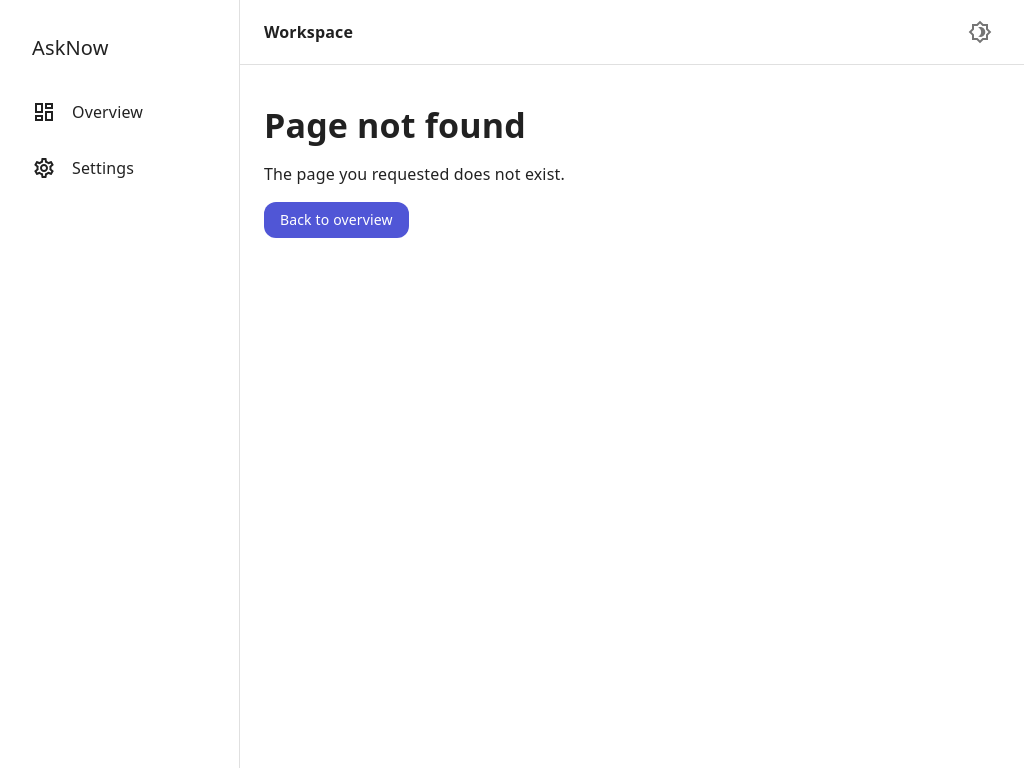
provides recovery navigation for unknown routes
Expected: the heading "Page not found" is shown, [264, 104, 526, 146]
Click the link "Back to overview" at (336, 220), box [264, 202, 409, 238]
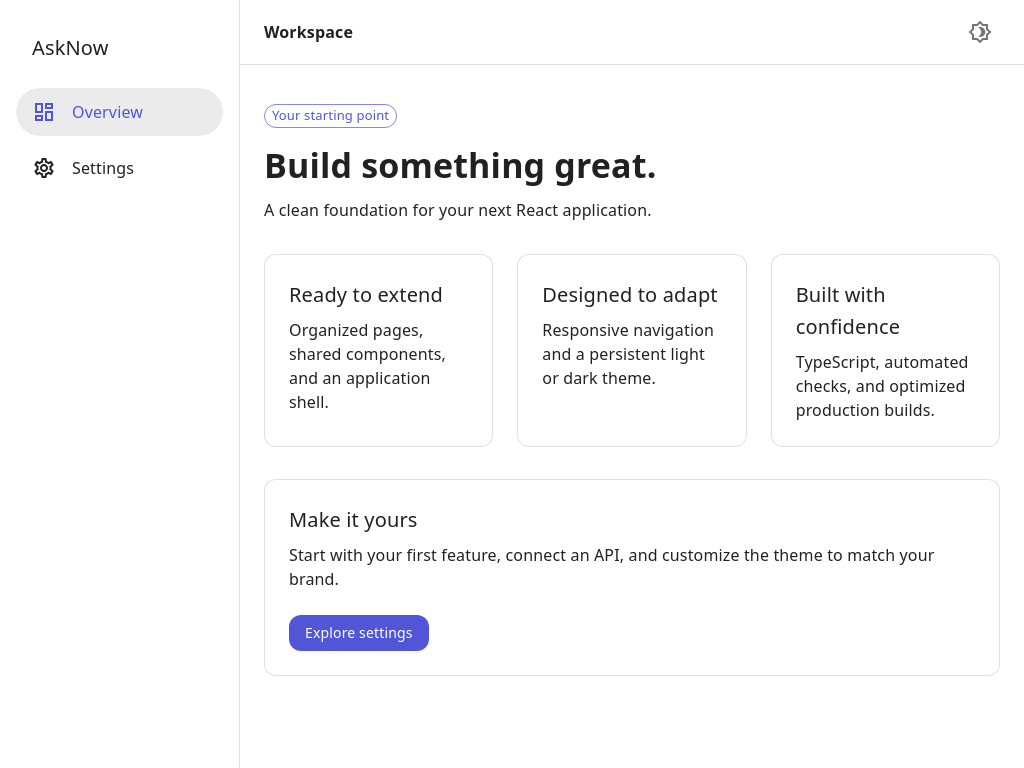
Result: the heading "Build something great." is shown at [264, 142, 656, 188]
